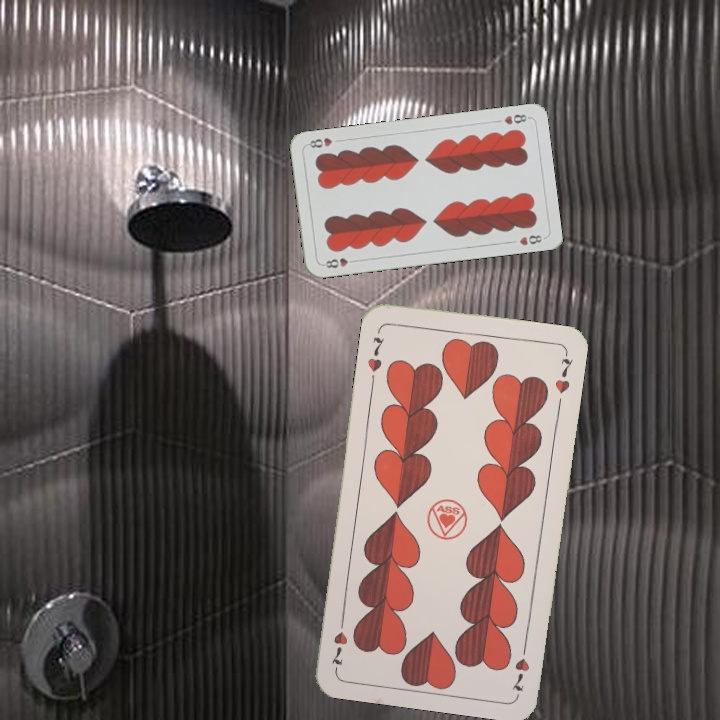H7: (507, 637, 532, 694), (363, 333, 387, 374)
H8: (319, 254, 359, 270), (500, 110, 531, 127)
